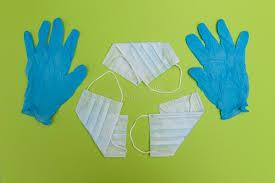Glove: (22, 18, 86, 124), (186, 20, 248, 119)
Mask: (130, 93, 203, 156), (76, 71, 127, 156), (103, 42, 181, 92)
